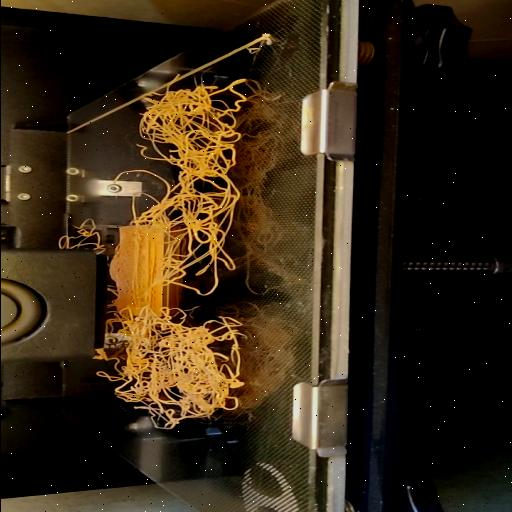spaghetti: (100, 74, 248, 431), (52, 219, 98, 249)
